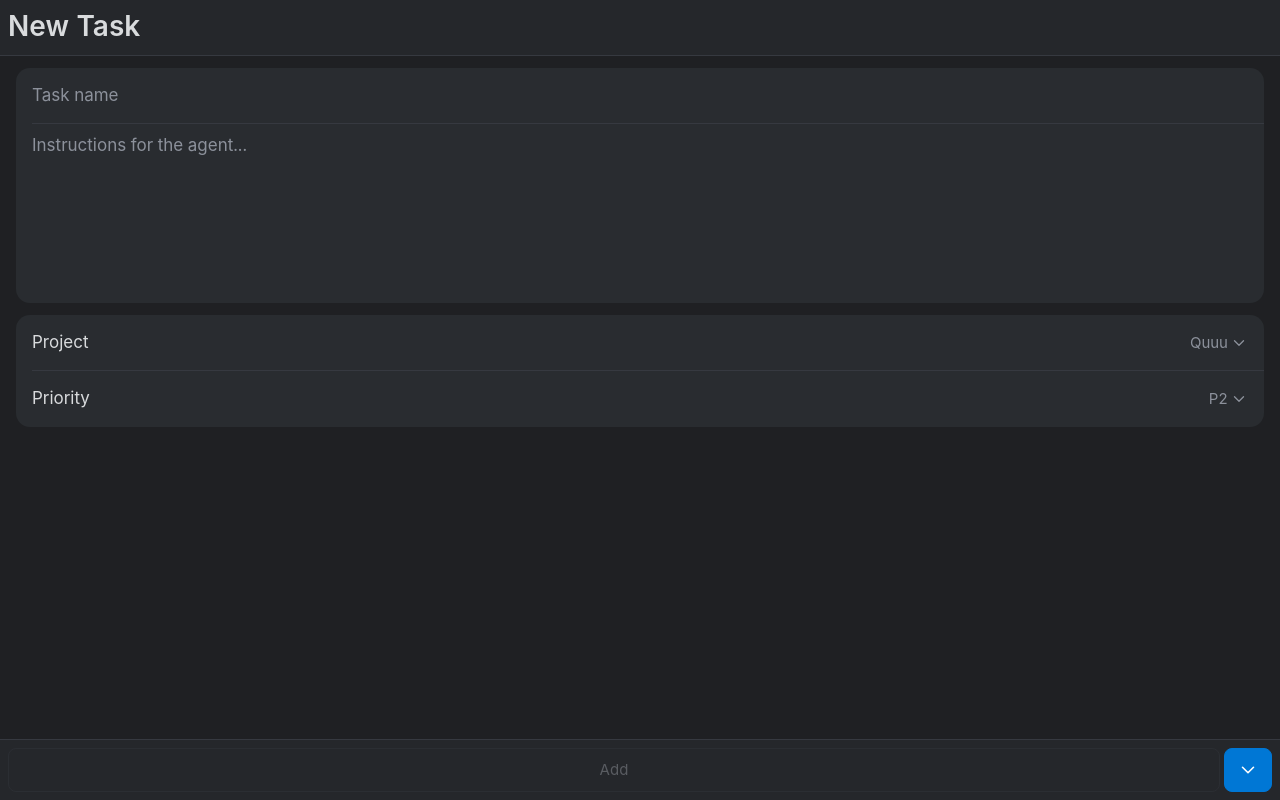
Test: the new task surface › priority takes the same shape: one value on the surface until something is chosen
This screenshot has width=1280, height=800.
Expected: the text "P0" is not shown
Click the text "Priority": (61, 399) [32,385,90,412]
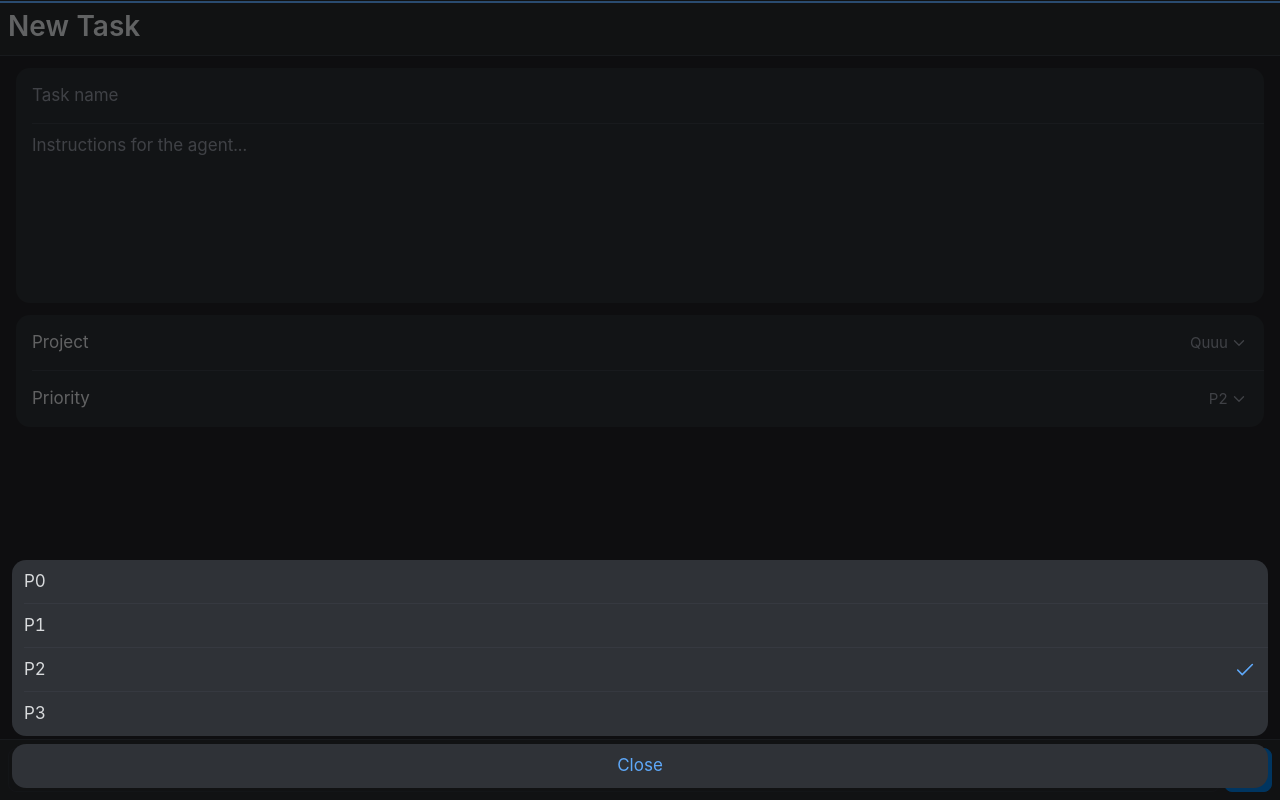
Click the button "P0": (35, 581) [12,560,1268,604]
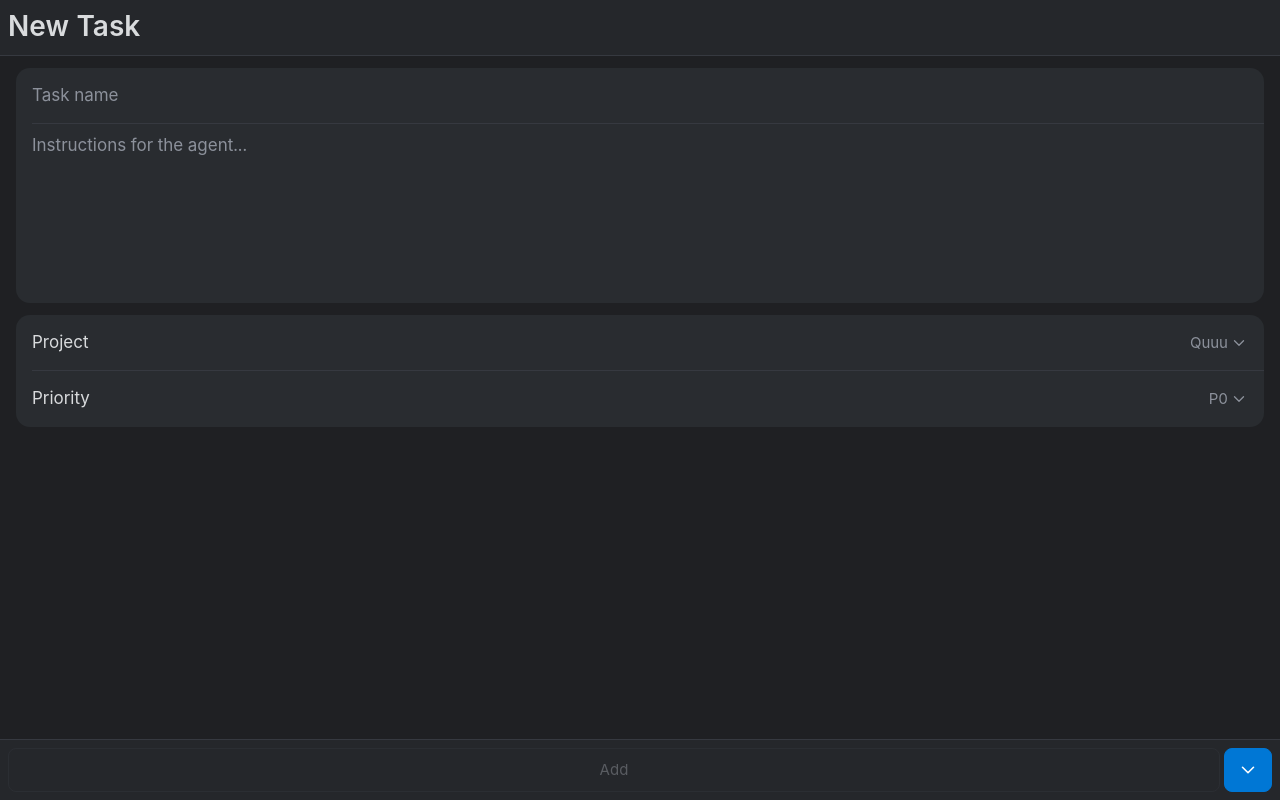
Expected: the text "P0" is shown once, [1209,387,1228,411]
Expected: the button "P3" is gone
